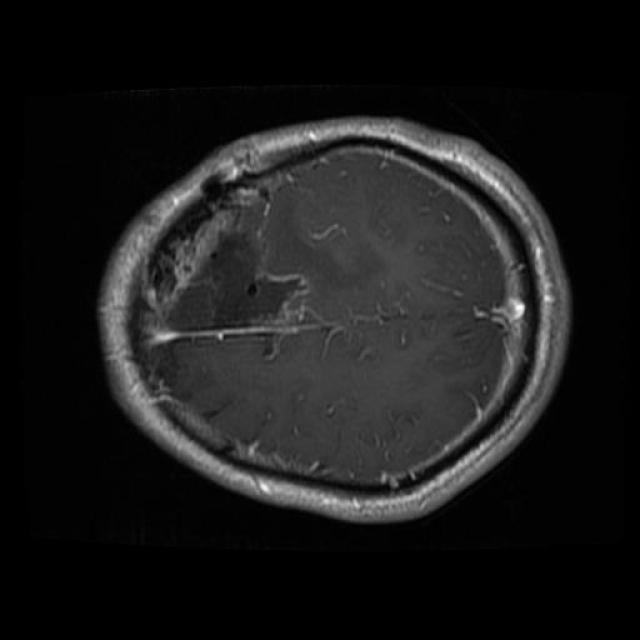Glioma: (148, 174, 314, 330)
